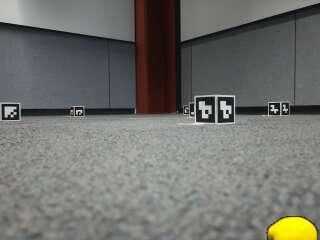lemon: (268, 217, 318, 240)
